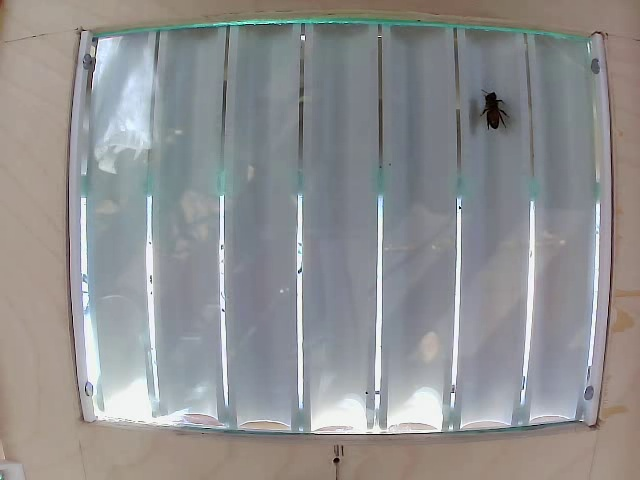bee: (475, 85, 504, 138)
